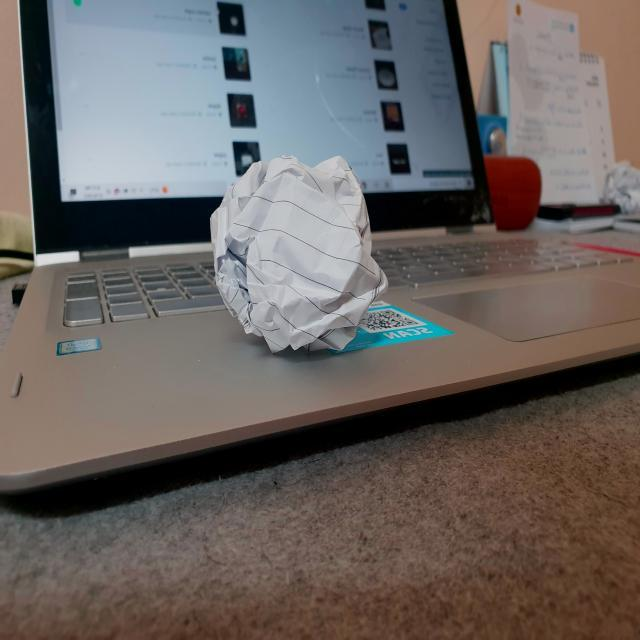Paper: (200, 144, 368, 350)
